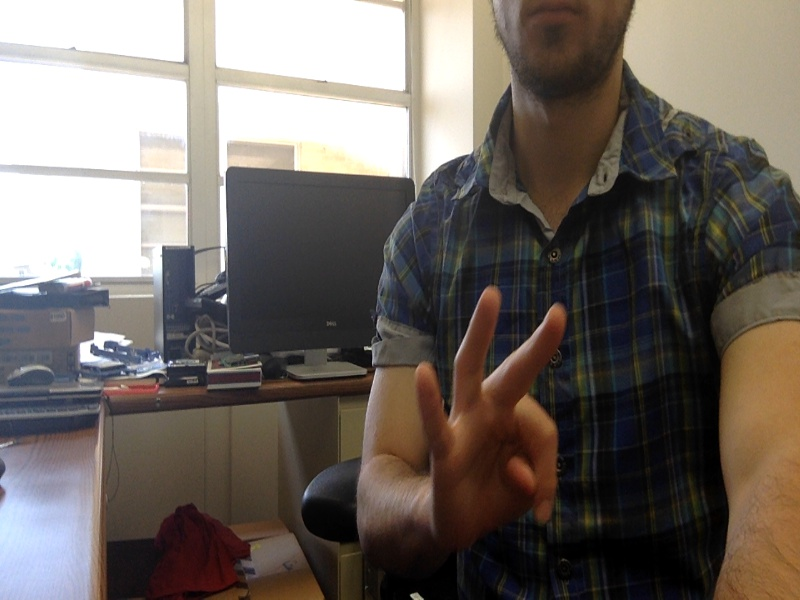3-hand: (415, 282, 568, 553)
